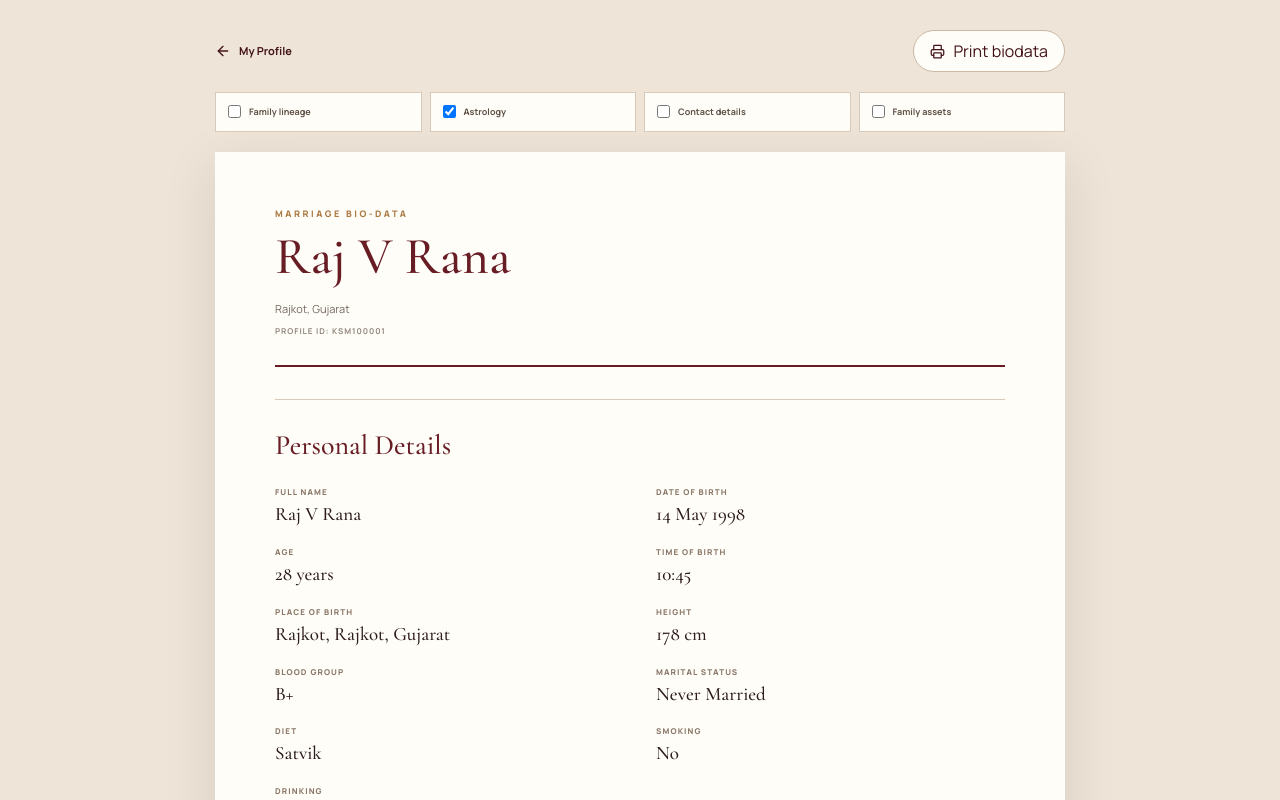
Test: BiodataPage › sensitive lineage shows Maternal Shakh and Mosal but not removed maternal fields
This screenshot has width=1280, height=800.
Expected: the heading "Raj V Rana" is shown, x1=275 y1=225 x2=511 y2=288
Click the checkbox labelled "Family lineage": (234, 112) x1=228 y1=105 x2=241 y2=118
(page scrolled)
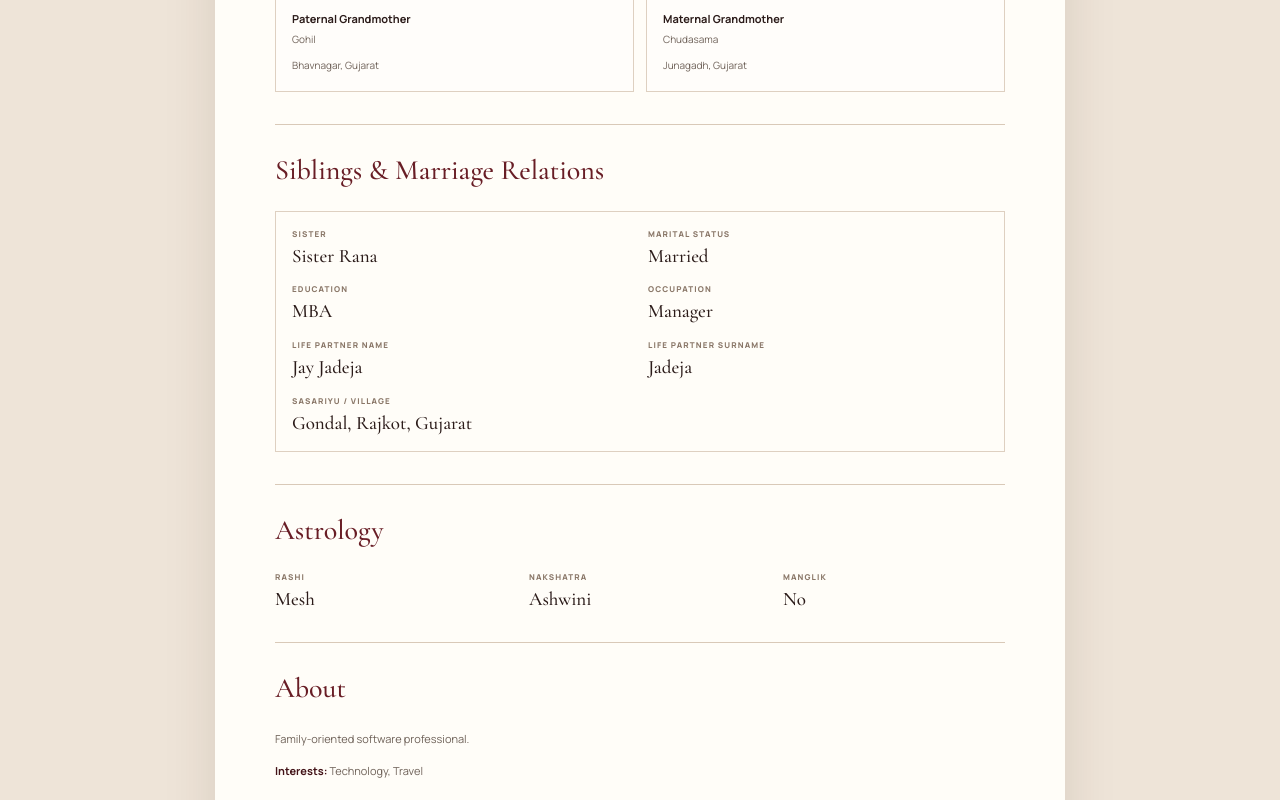
Expected: the heading "Siblings & Marriage Relations" is shown, x1=275 y1=153 x2=604 y2=187
Expected: the text "Life Partner Name" is shown, x1=292 y1=339 x2=389 y2=350
Expected: the text "Life Partner Surname" is shown, x1=648 y1=339 x2=765 y2=350
